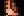helmet: (4, 0, 20, 16)
